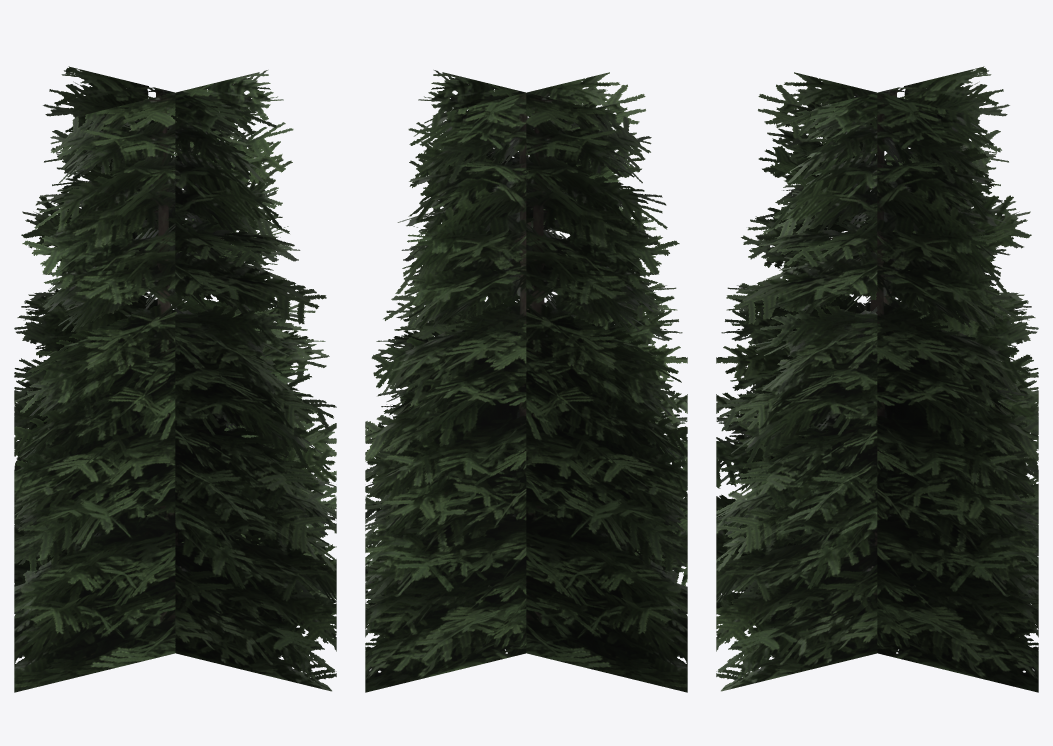
File: smrk_stredni_daleko.glb
3 renders of one model, left to right at view 1: azimuth 30°, elevation 25°; view 2: azimuth 150°, elevation 25°; view 3: azimuth 270°, elevation 25°, orthographic.
Parts seen in each view (by area): view 1: smrk_stredni_daleko; view 2: smrk_stredni_daleko; view 3: smrk_stredni_daleko.
Part boxes in pixels (bbox=[...]): smrk_stredni_daleko: bbox=[14, 66, 336, 692]; smrk_stredni_daleko: bbox=[365, 70, 687, 692]; smrk_stredni_daleko: bbox=[716, 66, 1038, 692].
Bounding box in the file's own units: 8.45 × 14.05 × 7.31.
Materials: 3 (3 with a texture image).
